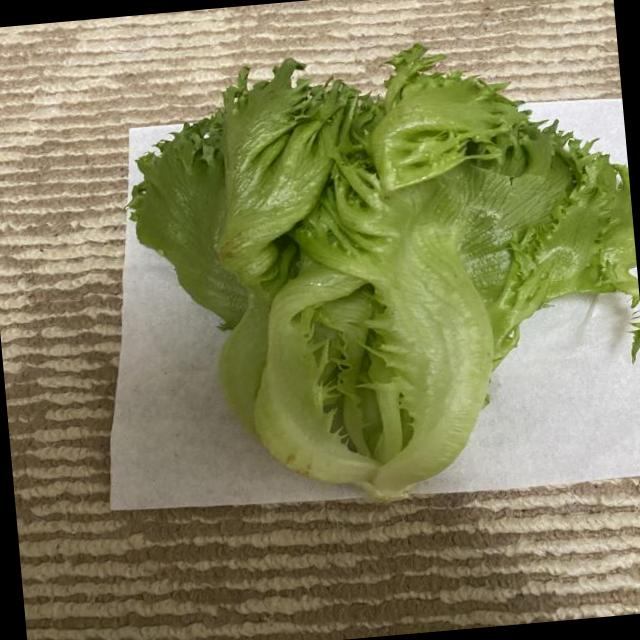Lettuce-Ready-to-Harvest: (130, 45, 640, 497)
